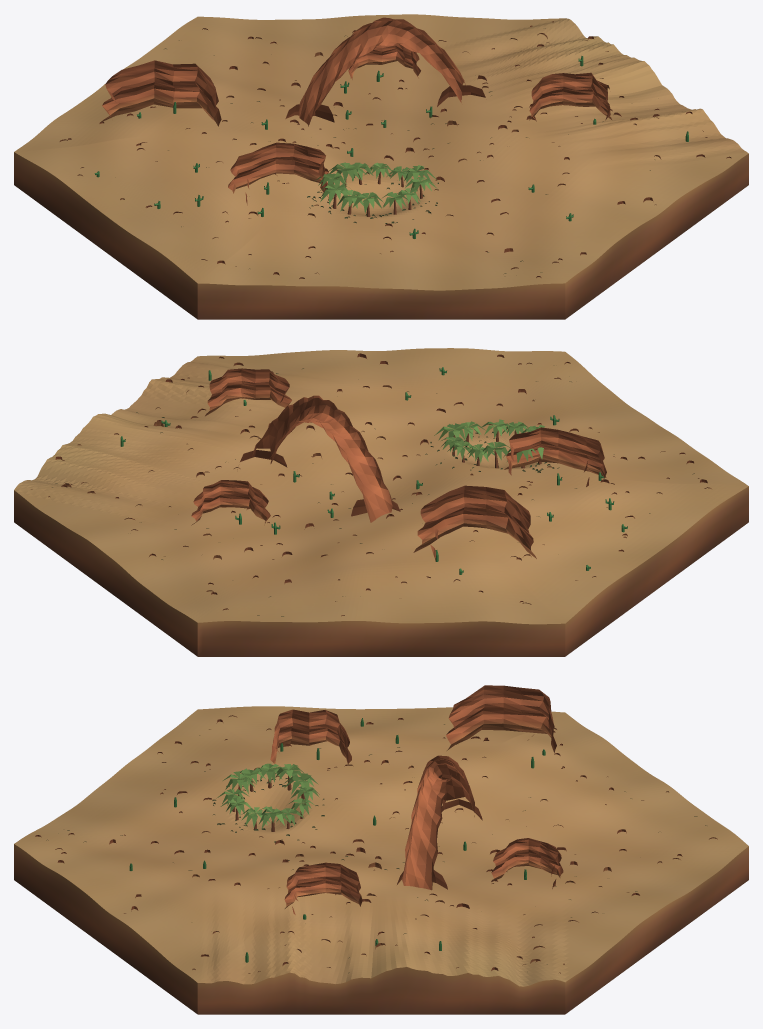
3 views of the same model, one above another, from view 1: azimuth 30°, elevation 25°; view 2: azimuth 150°, elevation 25°; view 3: azimuth 270°, elevation 25° (orthographic).
Parts seen in each view (by area): view 1: terrain, hex_side_cut, sandstone_cliffs, rock_arches, palm_fronds, loose_rocks, cacti; view 2: terrain, hex_side_cut, sandstone_cliffs, rock_arches, loose_rocks, palm_fronds, cacti; view 3: terrain, hex_side_cut, sandstone_cliffs, rock_arches, palm_fronds, loose_rocks.
Boxes of the visible parts, x1,y1,x2,y2 form: terrain: [14, 14, 748, 290]; hex_side_cut: [14, 152, 748, 319]; sandstone_cliffs: [100, 44, 611, 205]; rock_arches: [285, 17, 485, 126]; palm_fronds: [315, 162, 437, 213]; loose_rocks: [59, 21, 731, 278]; cacti: [94, 56, 688, 238]; terrain: [14, 348, 748, 624]; hex_side_cut: [14, 486, 748, 656]; sandstone_cliffs: [191, 368, 606, 561]; rock_arches: [237, 395, 400, 522]; loose_rocks: [31, 353, 711, 616]; palm_fronds: [434, 419, 544, 463]; cacti: [120, 367, 627, 574]; terrain: [14, 706, 748, 986]; hex_side_cut: [14, 844, 748, 1014]; sandstone_cliffs: [270, 685, 563, 914]; rock_arches: [397, 755, 482, 890]; palm_fronds: [216, 763, 319, 828]; loose_rocks: [35, 715, 717, 973].
Bounding box in the file's own units: 4330 × 1028 × 5000.
